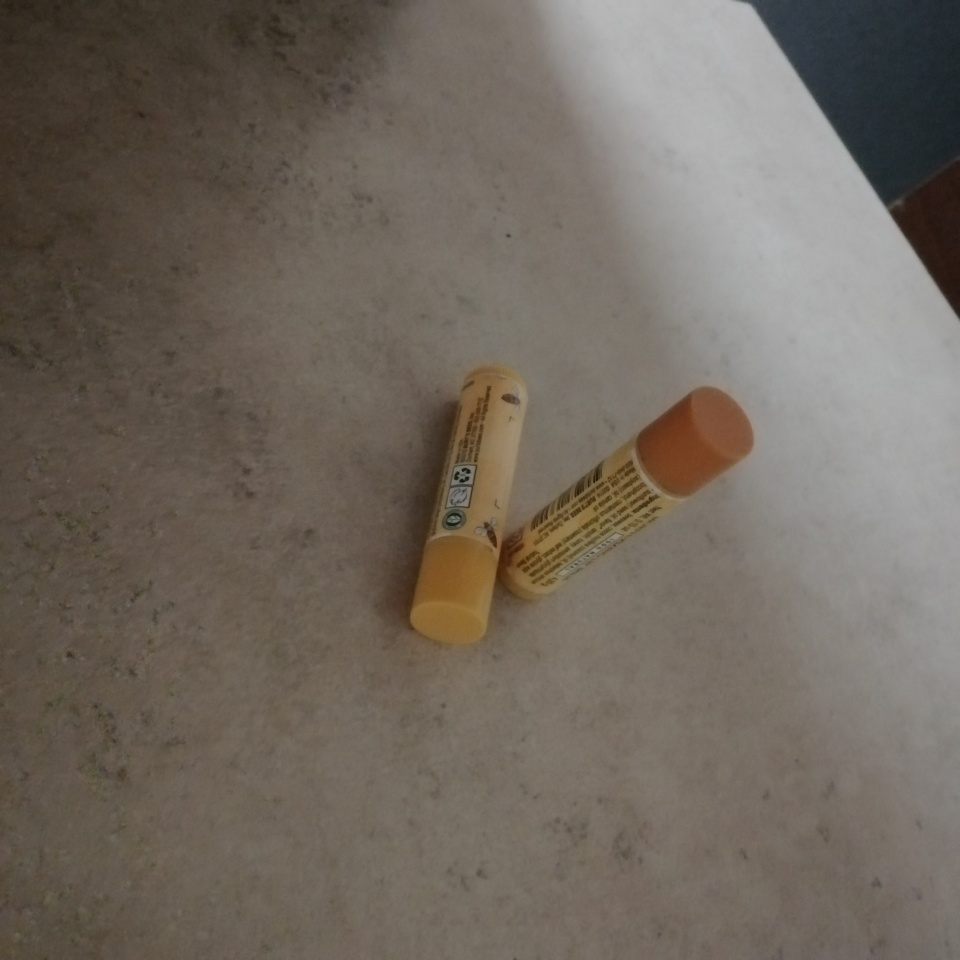chapstick: (501, 387, 754, 600), (409, 365, 529, 643)
